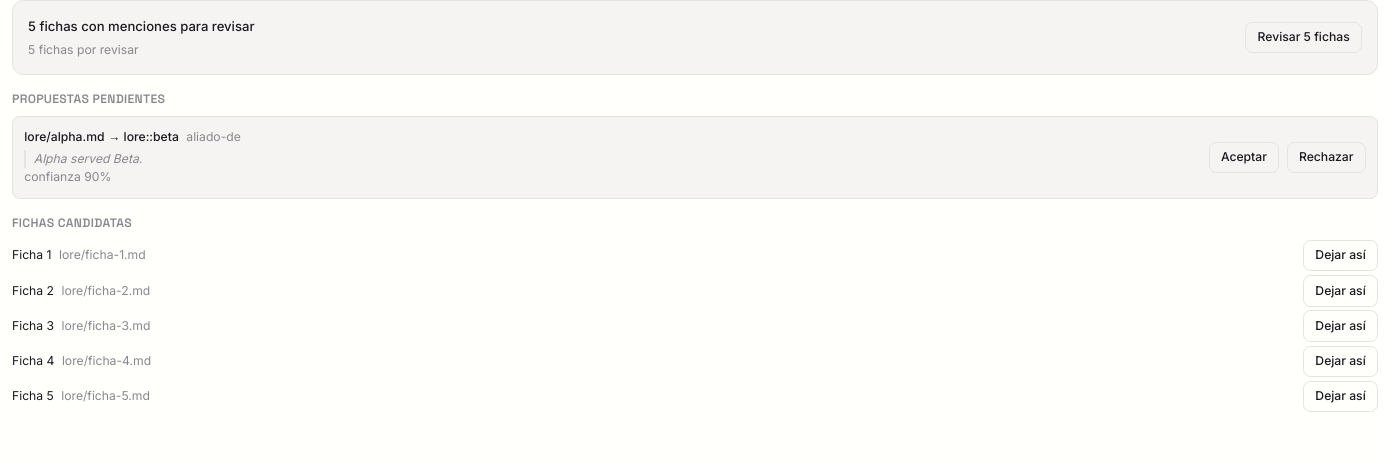
Test: ProposalsPanel › reports when there is nothing left to review
Click the button with test id "sweep-button".
click(1304, 38)  # box [1245, 22, 1362, 53]
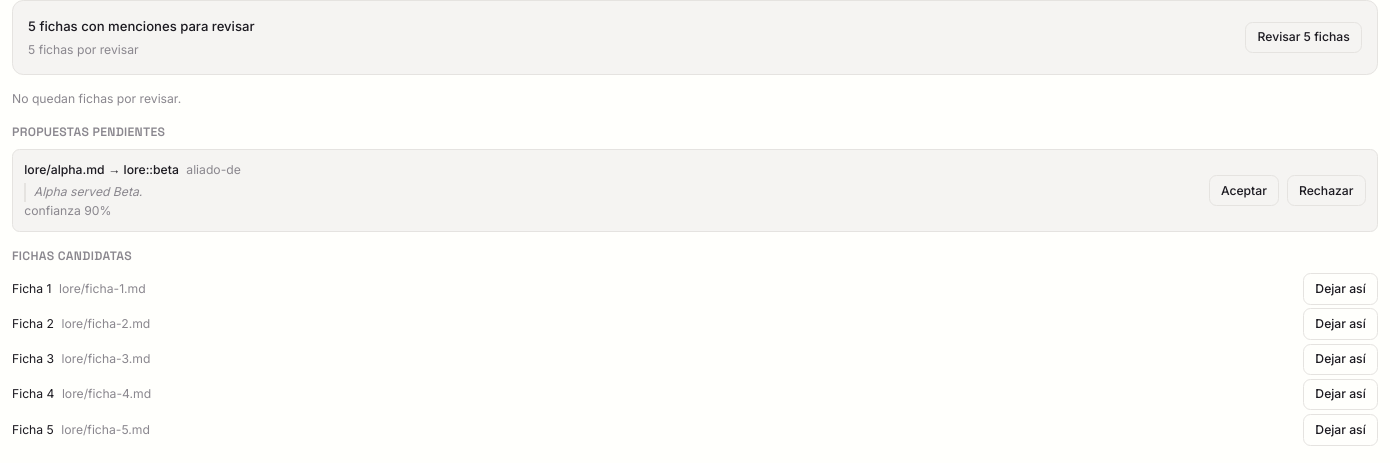
Expected: the text with test id "sweep-notice" reads "No quedan fichas por revisar.", [12, 91, 181, 106]
